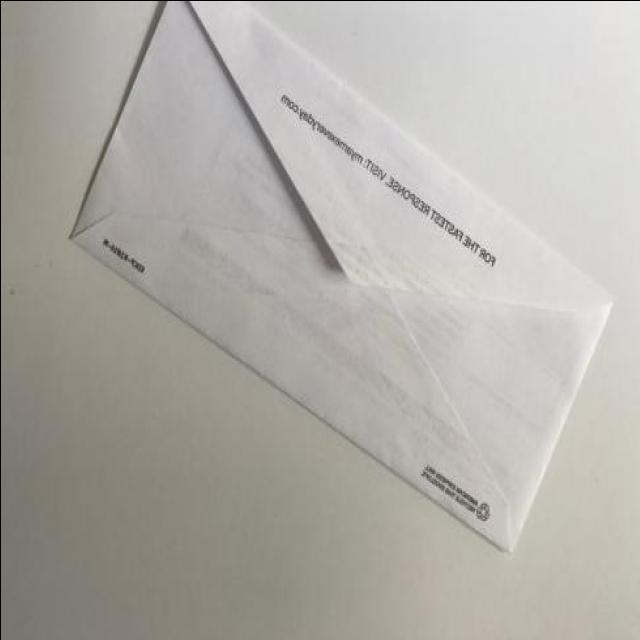kertas: (69, 0, 620, 552)
